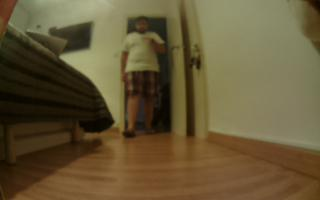person: (112, 12, 172, 143)
